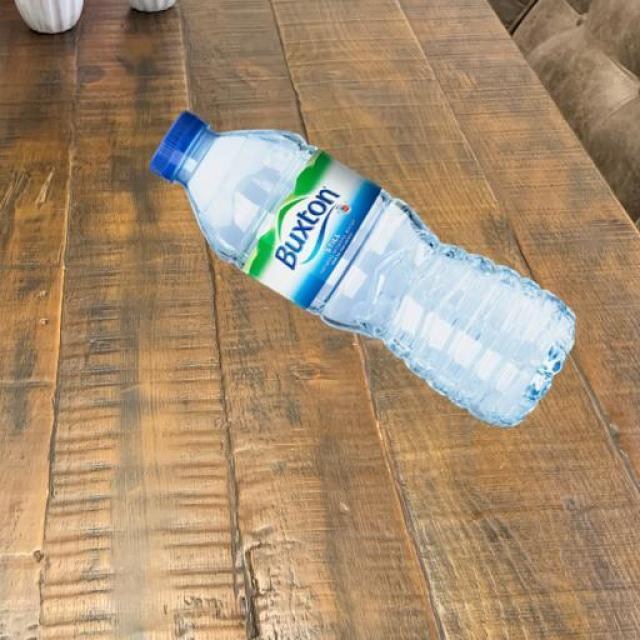bottle: (148, 108, 576, 428)
